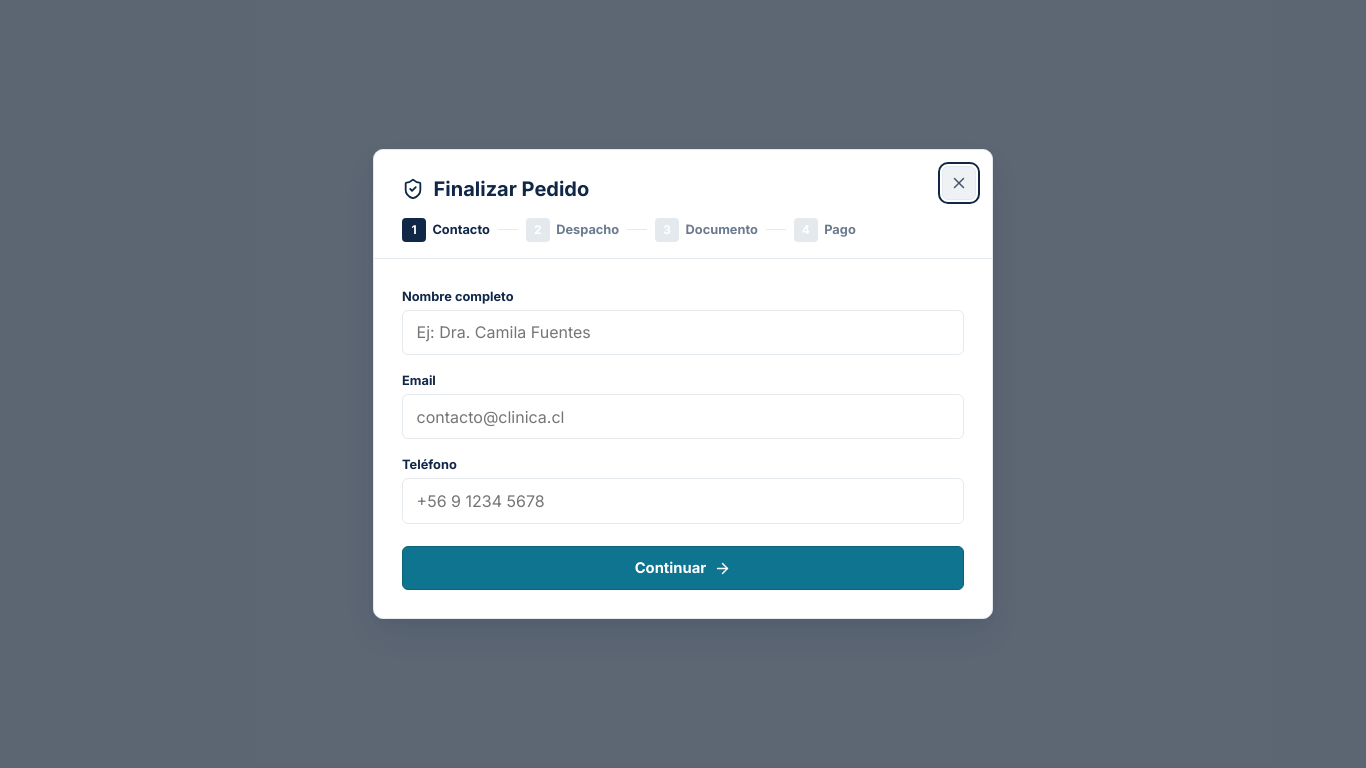
Test case: CheckoutModal Component › should offer only Boleta and route Factura through the WhatsApp quotation path
The width and height of the screenshot is (1366, 768).
Type "Dra. Andrea Morales" into the field with placeholder "Ej: Dra. Camila Fuentes" at (683, 332), box [402,310,964,355]
Type "andrea@moralesdental.cl" into the field with placeholder "contacto@clinica.cl" at (683, 417), box [402,394,964,439]
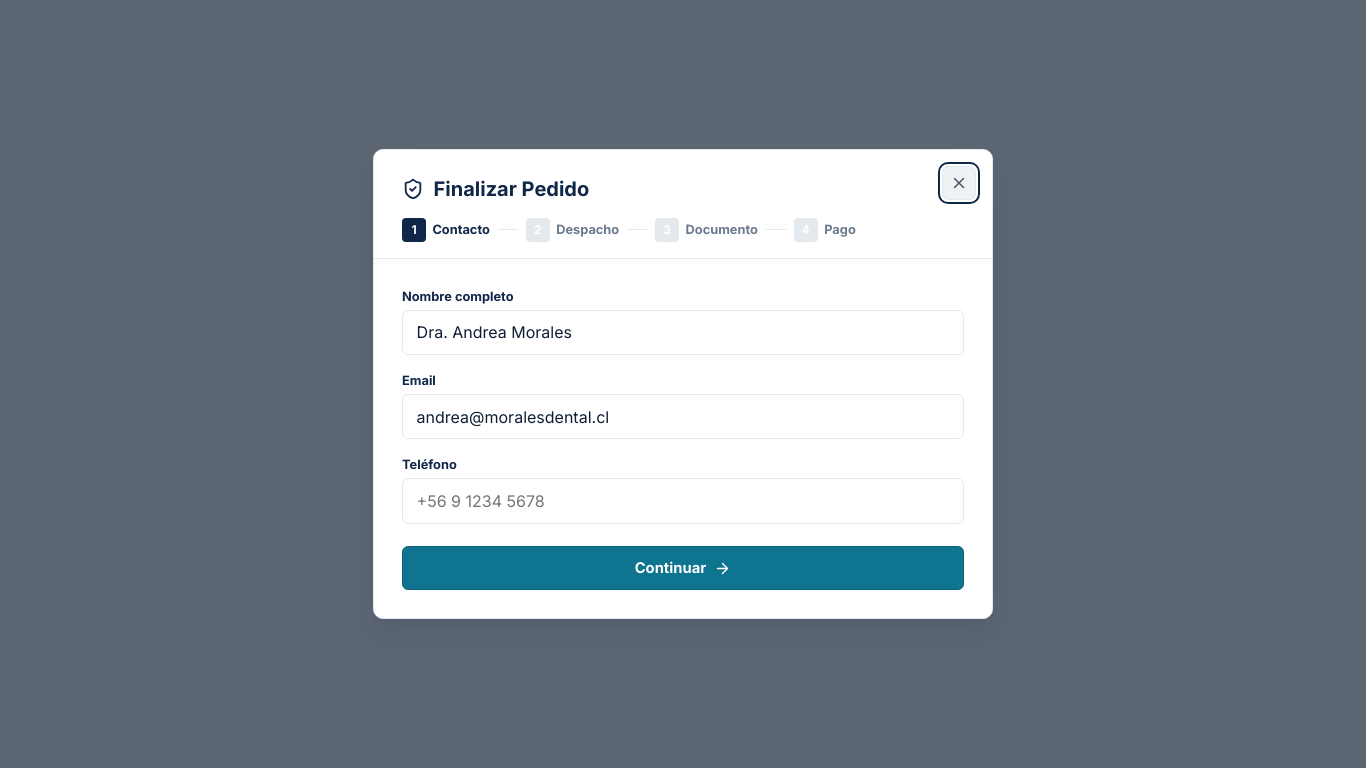
Type "+56 9 5555 4444" into the field with placeholder "+56 9 1234 5678" at (683, 501), box [402,478,964,524]
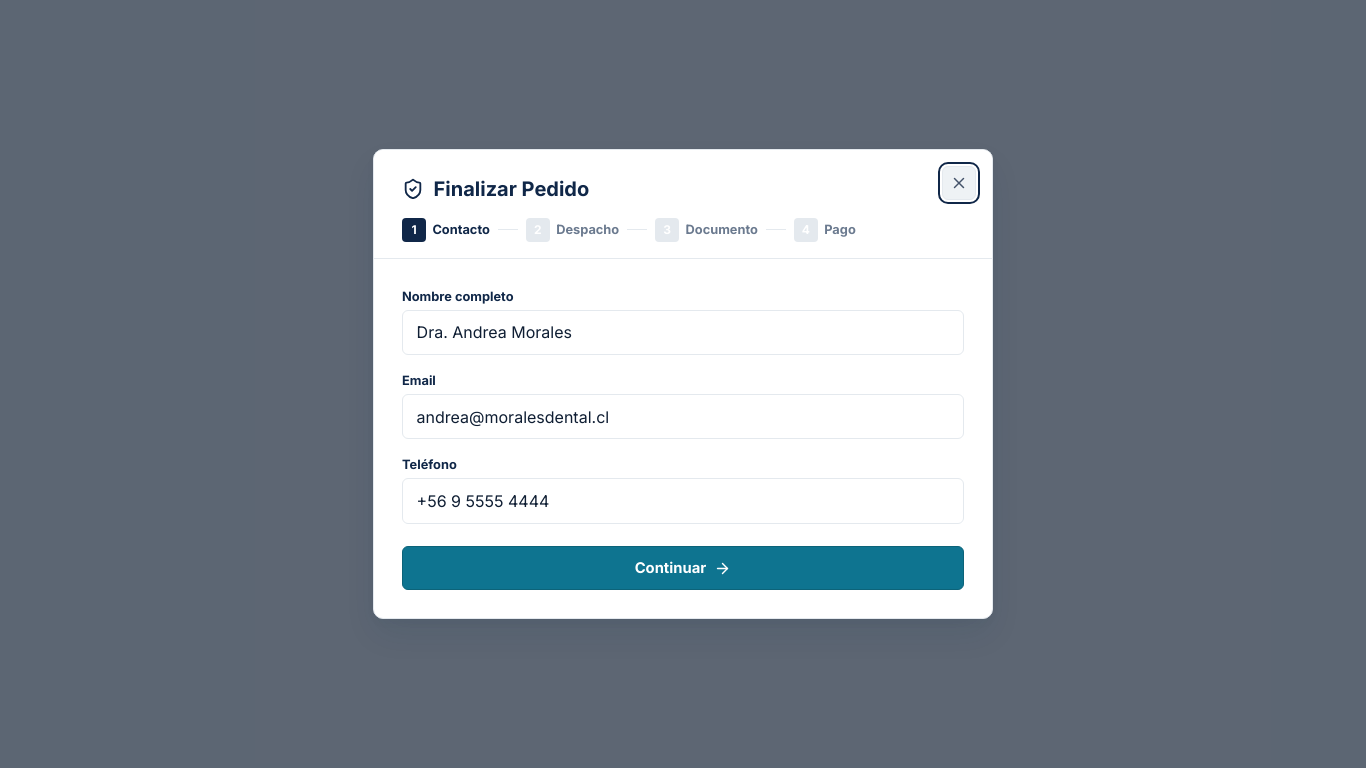
Click the button "Continuar" at (683, 568), box [402,546,964,590]
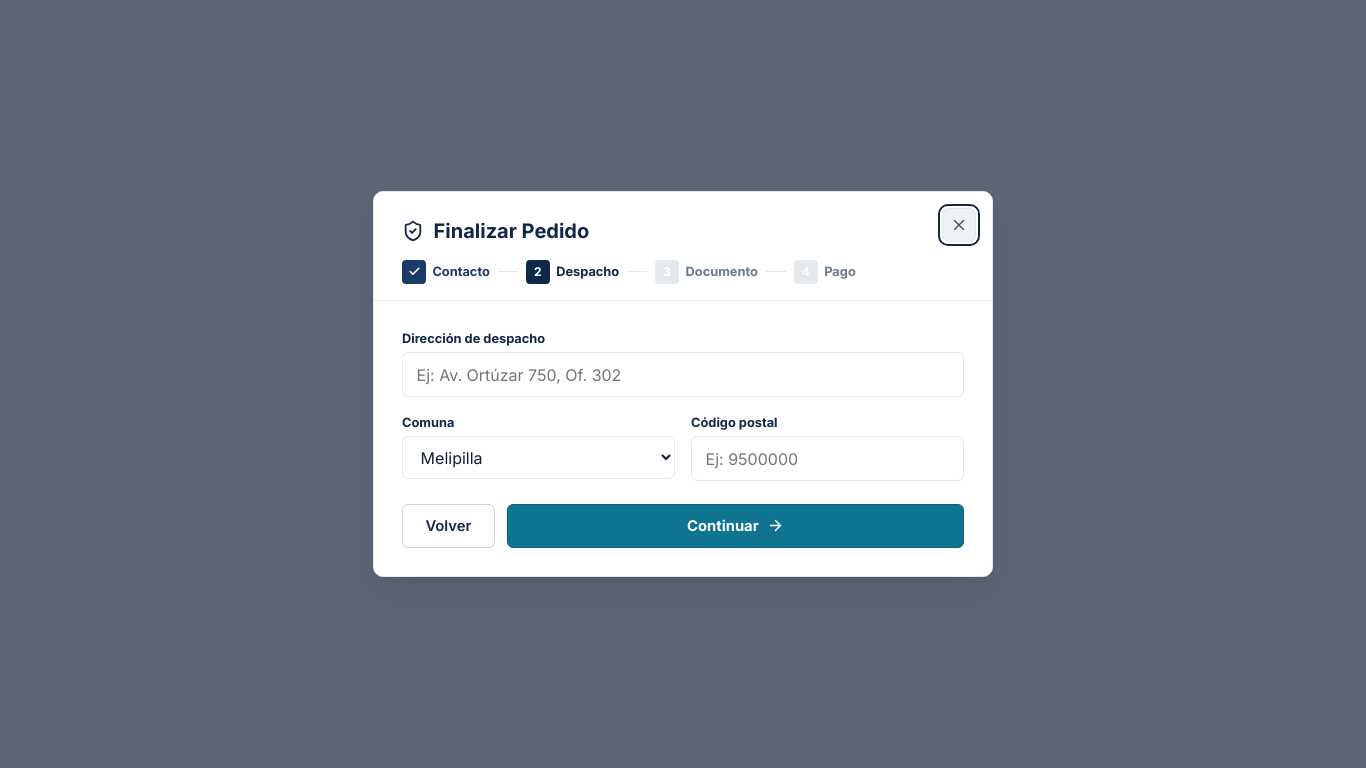
Type "Av. Ortúzar 100" into the field with placeholder "Ej: Av. Ortúzar 750, Of. 302" at (683, 374), box [402,352,964,397]
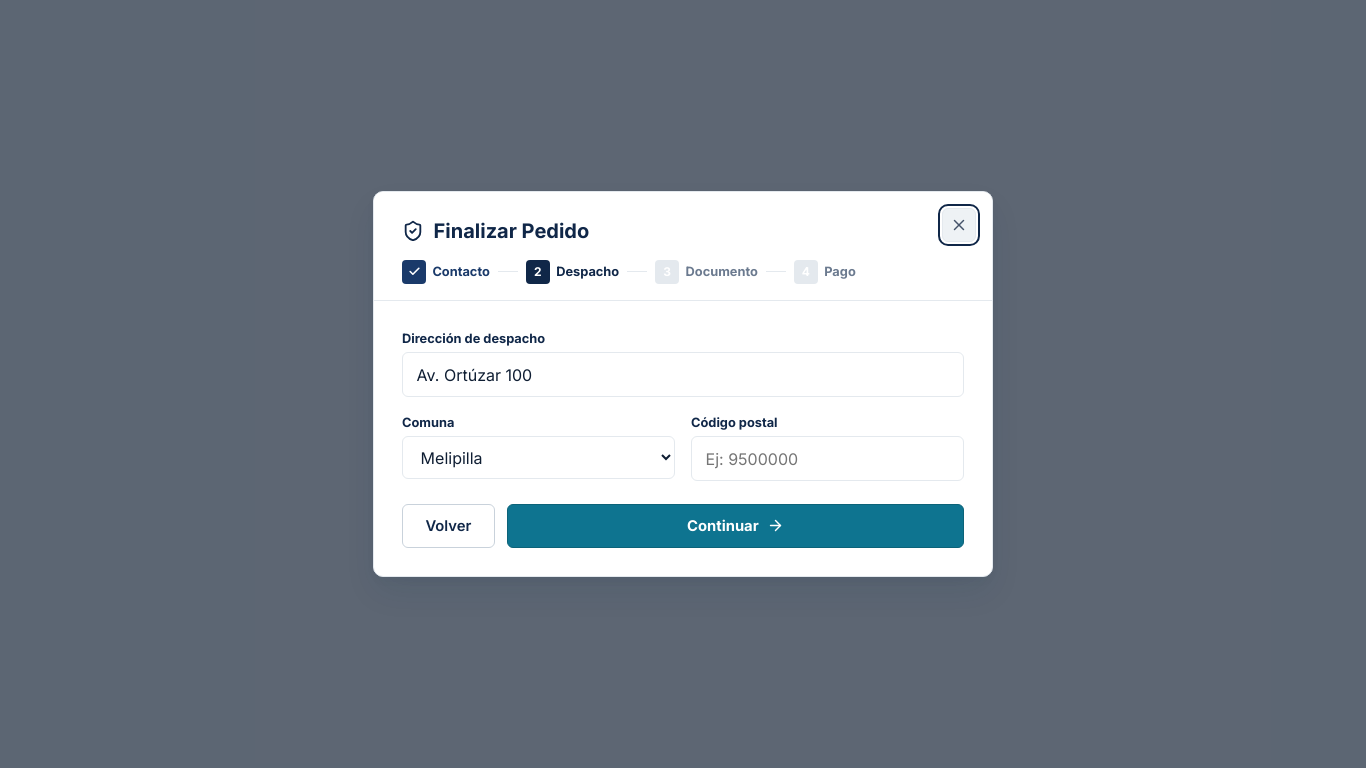
Type "9500000" into the field with placeholder "Ej: 9500000" at (828, 459), box [691,436,964,482]
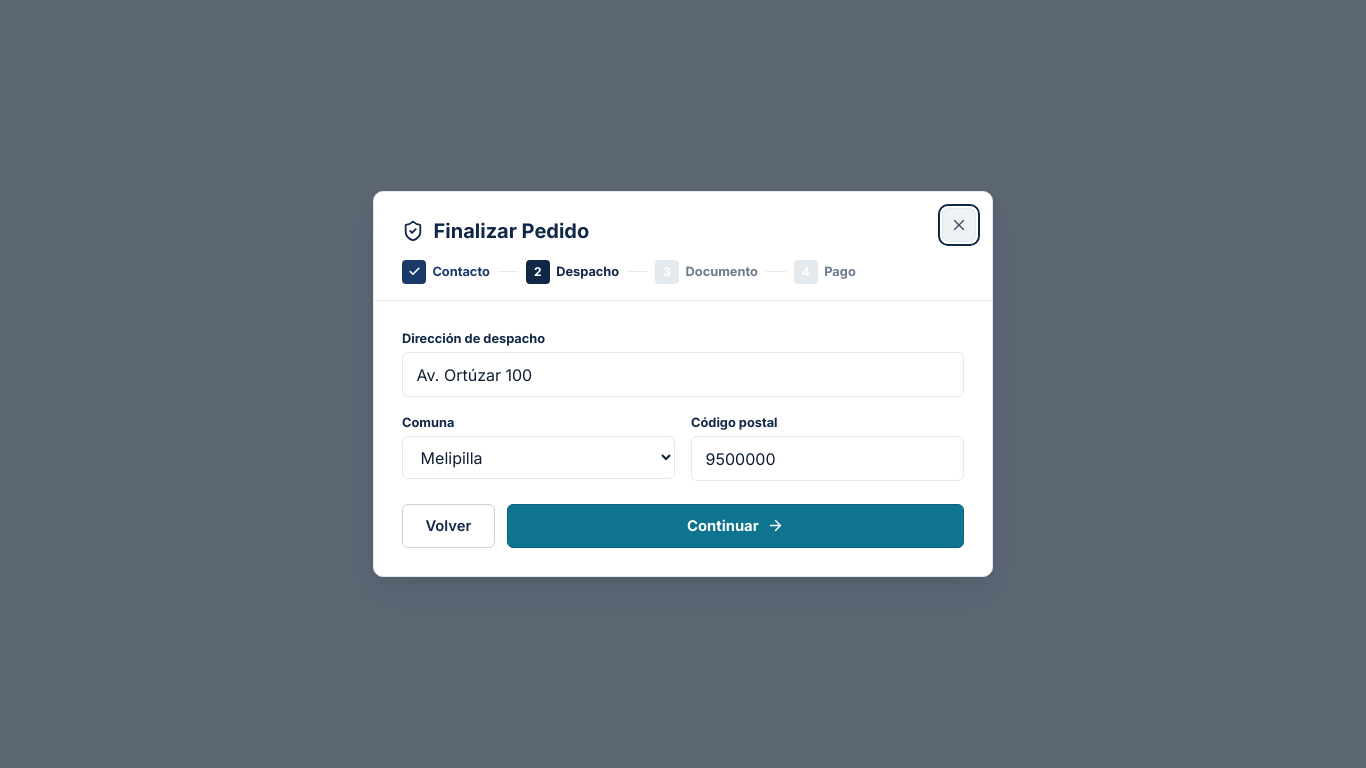
Click the button "Continuar" at (735, 526), box [507,504,964,548]
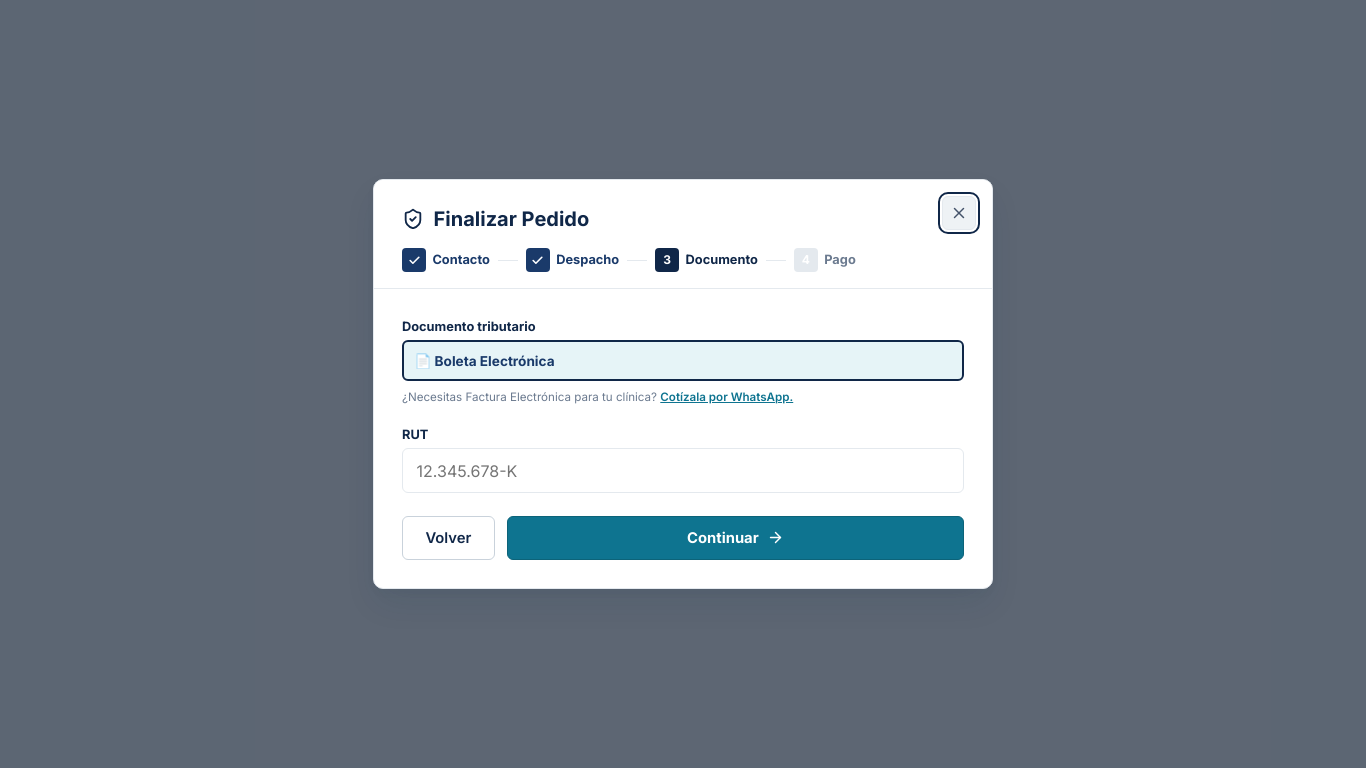
Now the button "📄 Boleta Electrónica" is shown, box [402,340,964,381]
Now the text "¿Necesitas Factura Electrónica para tu clínica?" is shown, box [402,390,657,404]
